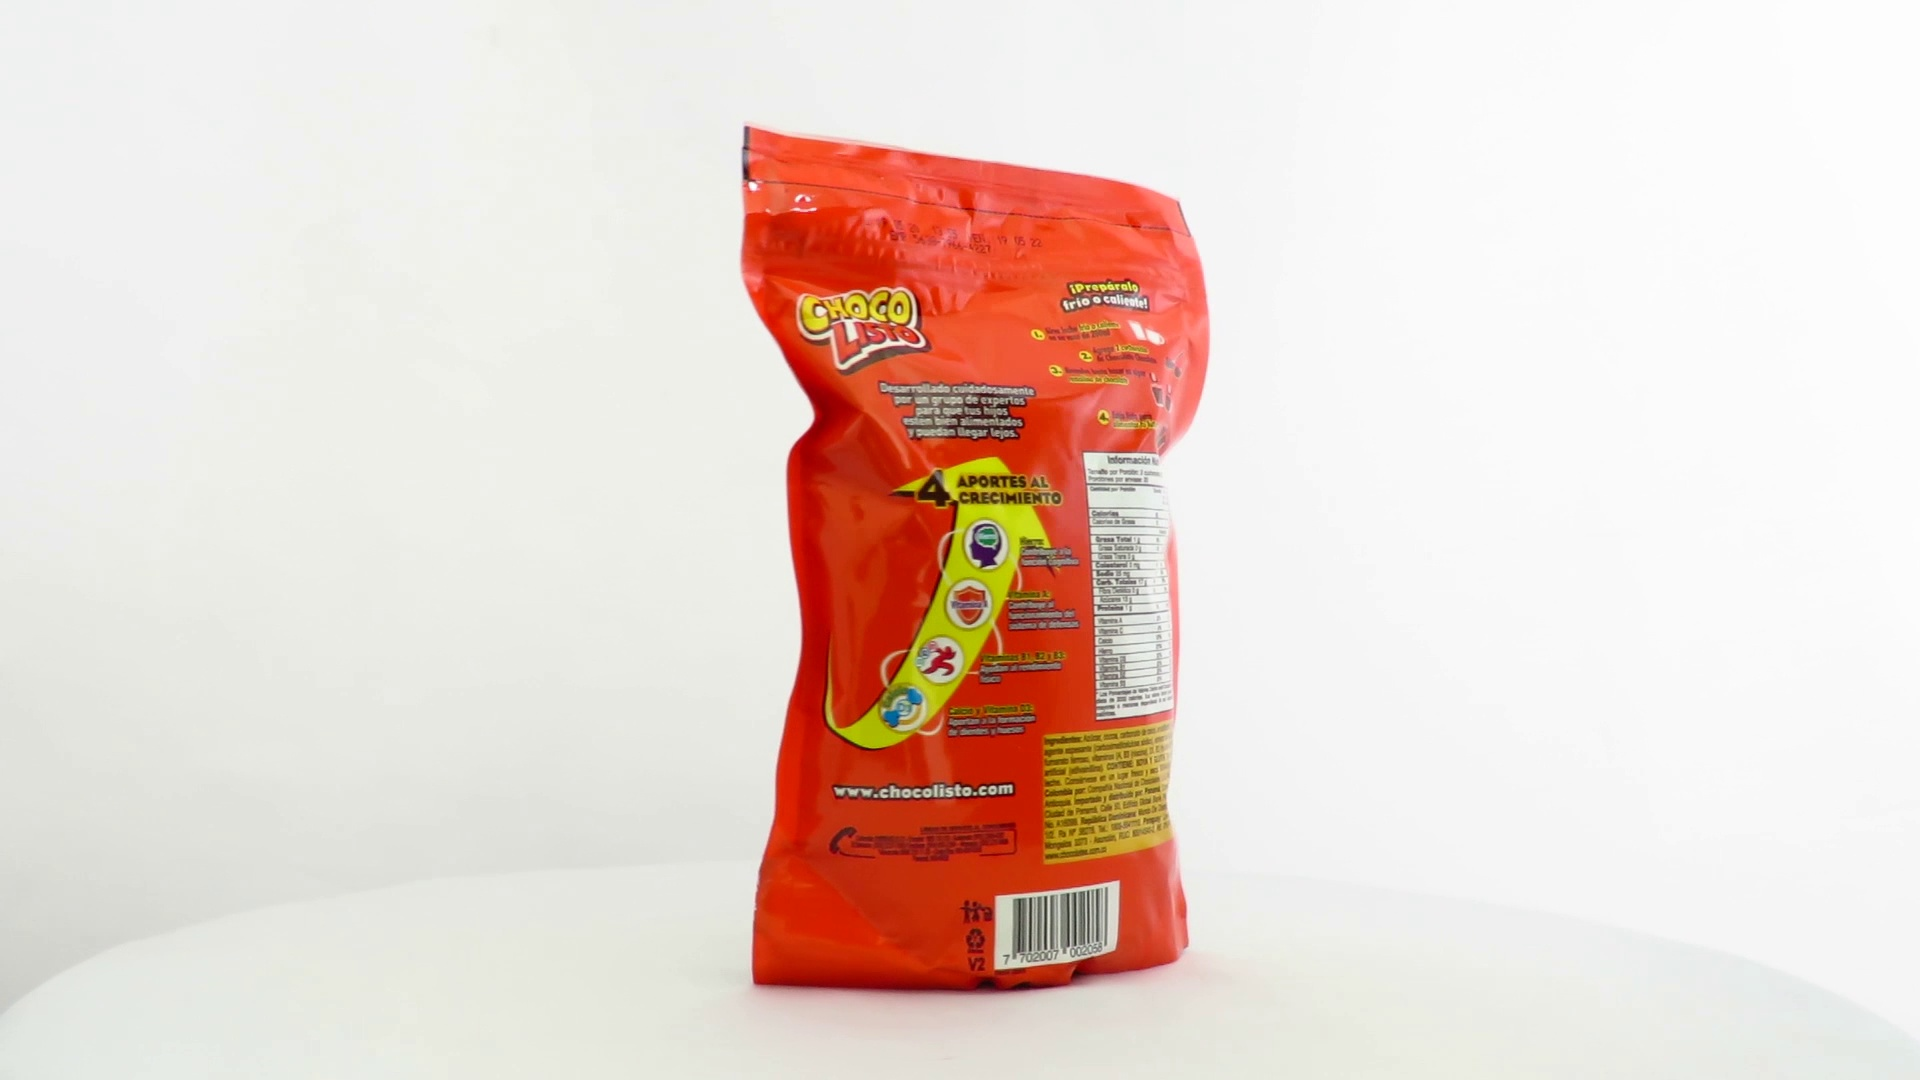COL0170103DYP40000: (735, 121, 1216, 997)
